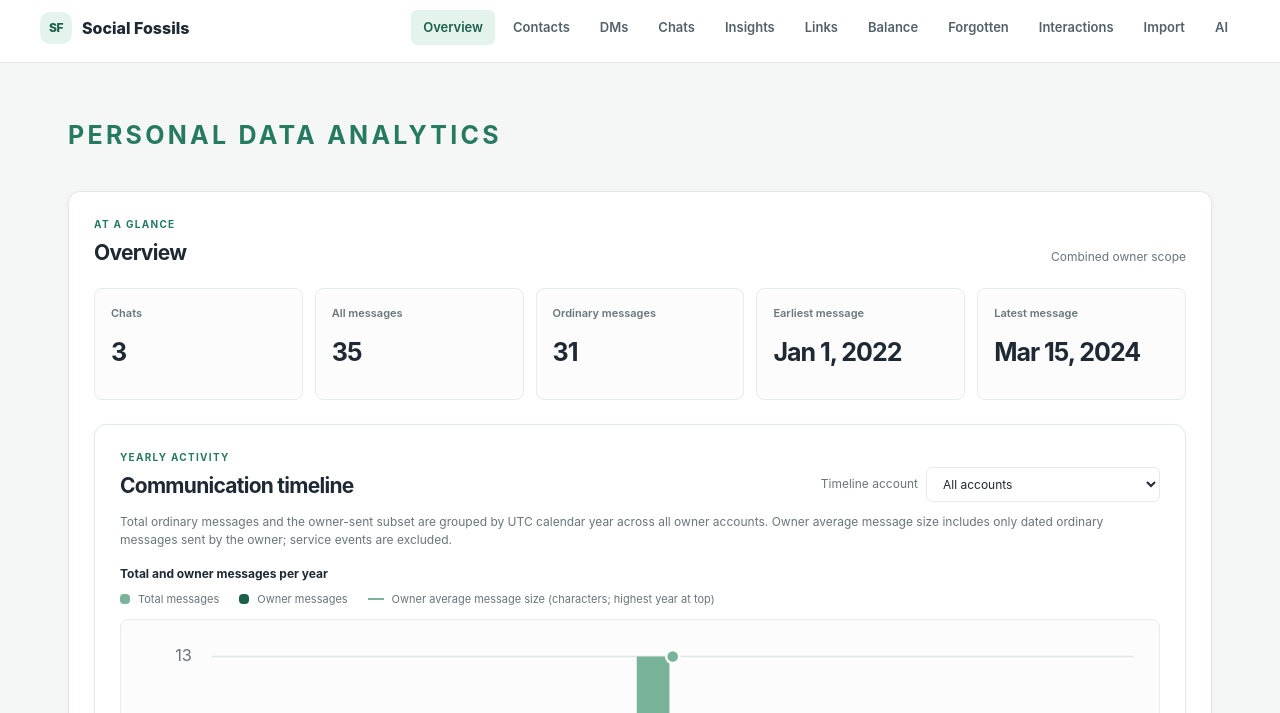
Test: dashboard › opens insights for the clicked chat title
The width and height of the screenshot is (1280, 713).
Expected: the heading "All messages" is shown, [332, 306, 403, 320]
What coordinates should you click on to do the following:
click the tab "Chats"
I would click on:
 (677, 28)
Its box is [646, 10, 707, 45].
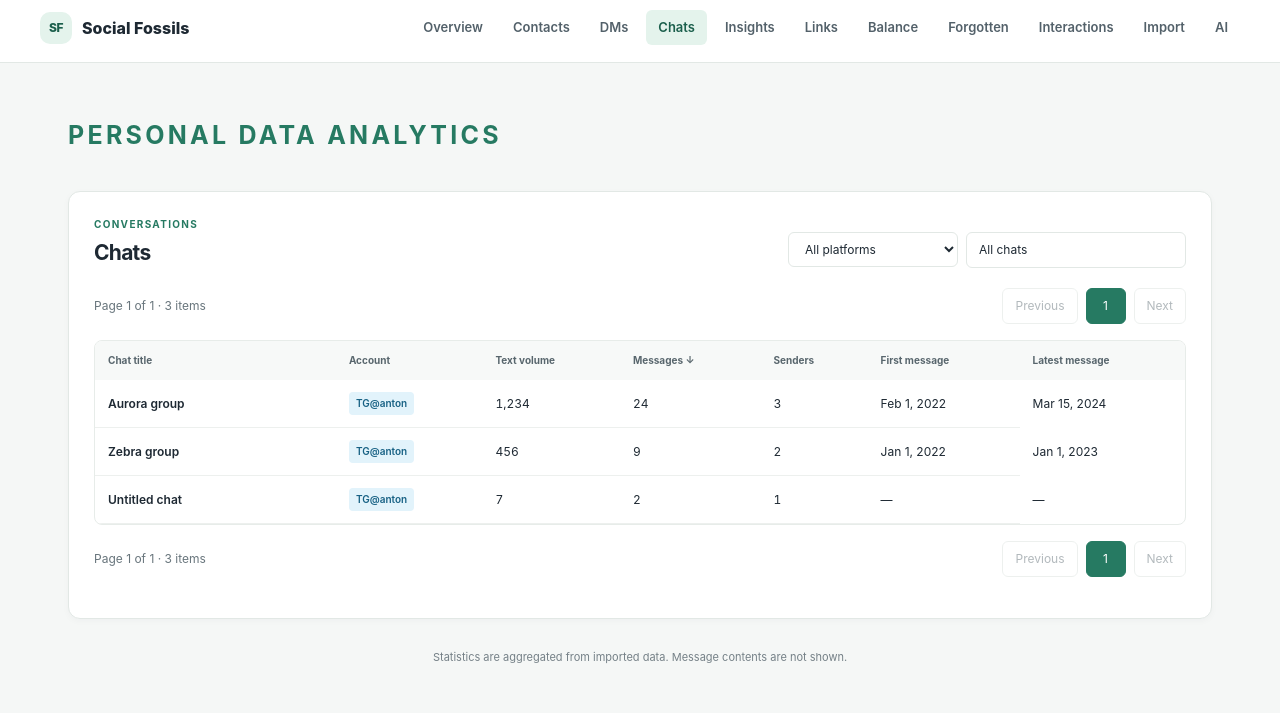
Expected: the panel "Chats" is shown, [68, 190, 1212, 619]
What coordinates should you click on to do the following:
click the button "Aurora group"
I would click on:
 (146, 404)
Its box is [108, 394, 185, 412].
(page scrolled)
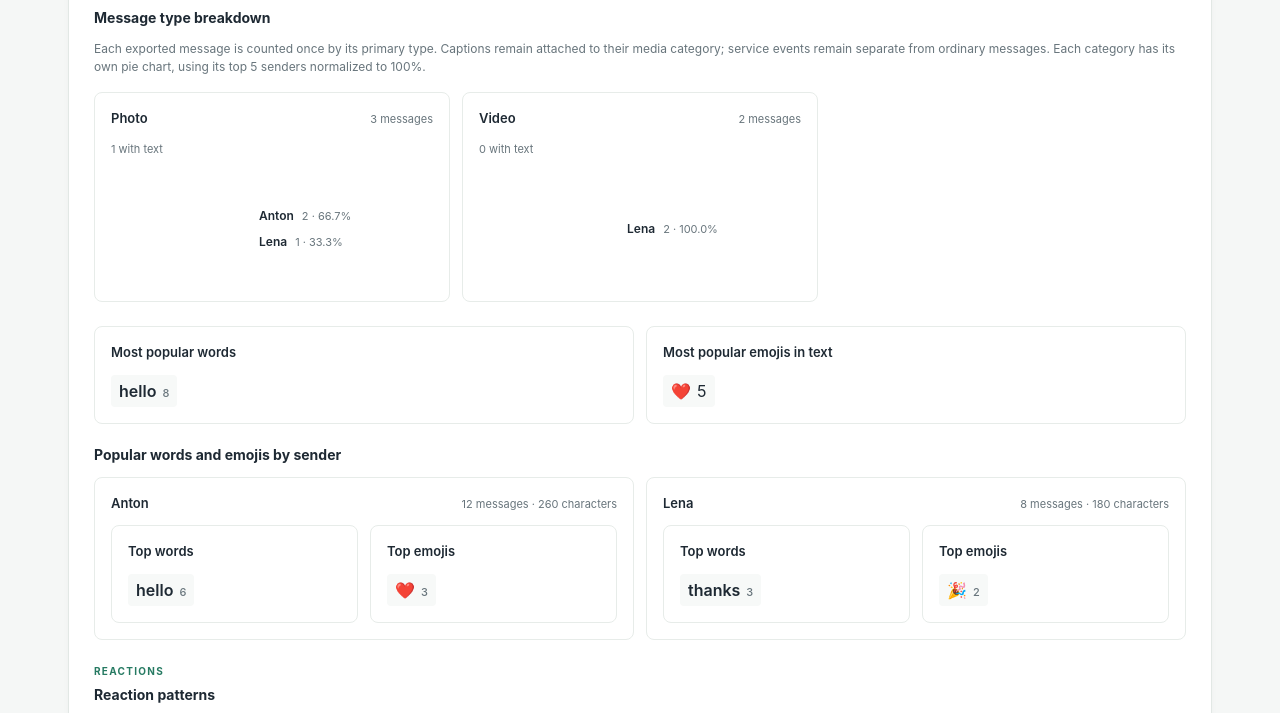
Expected: the heading "Most popular words" is shown, [111, 344, 236, 360]
